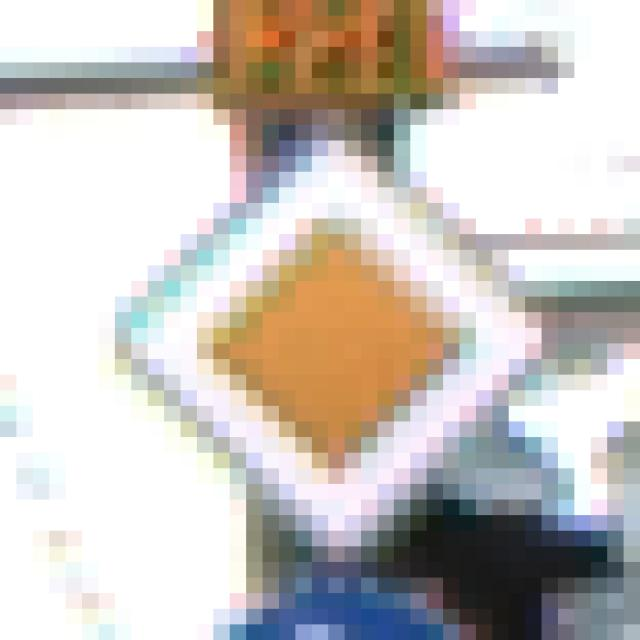Main Road: (83, 95, 543, 563)
